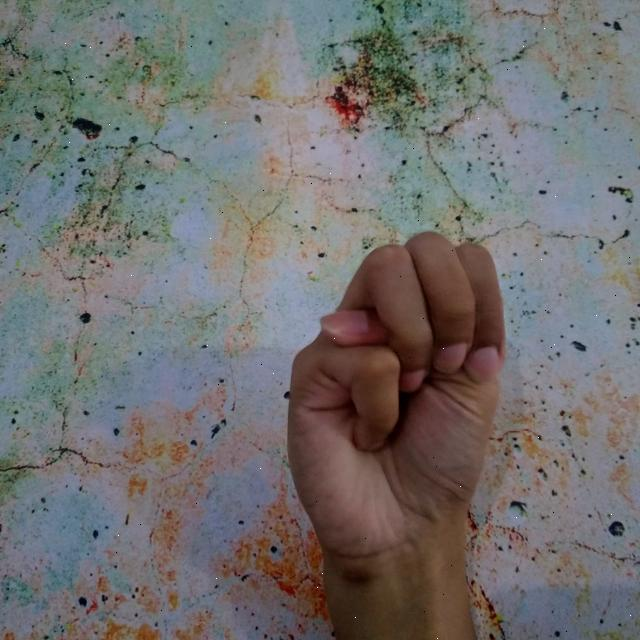M: (281, 226, 512, 640)
